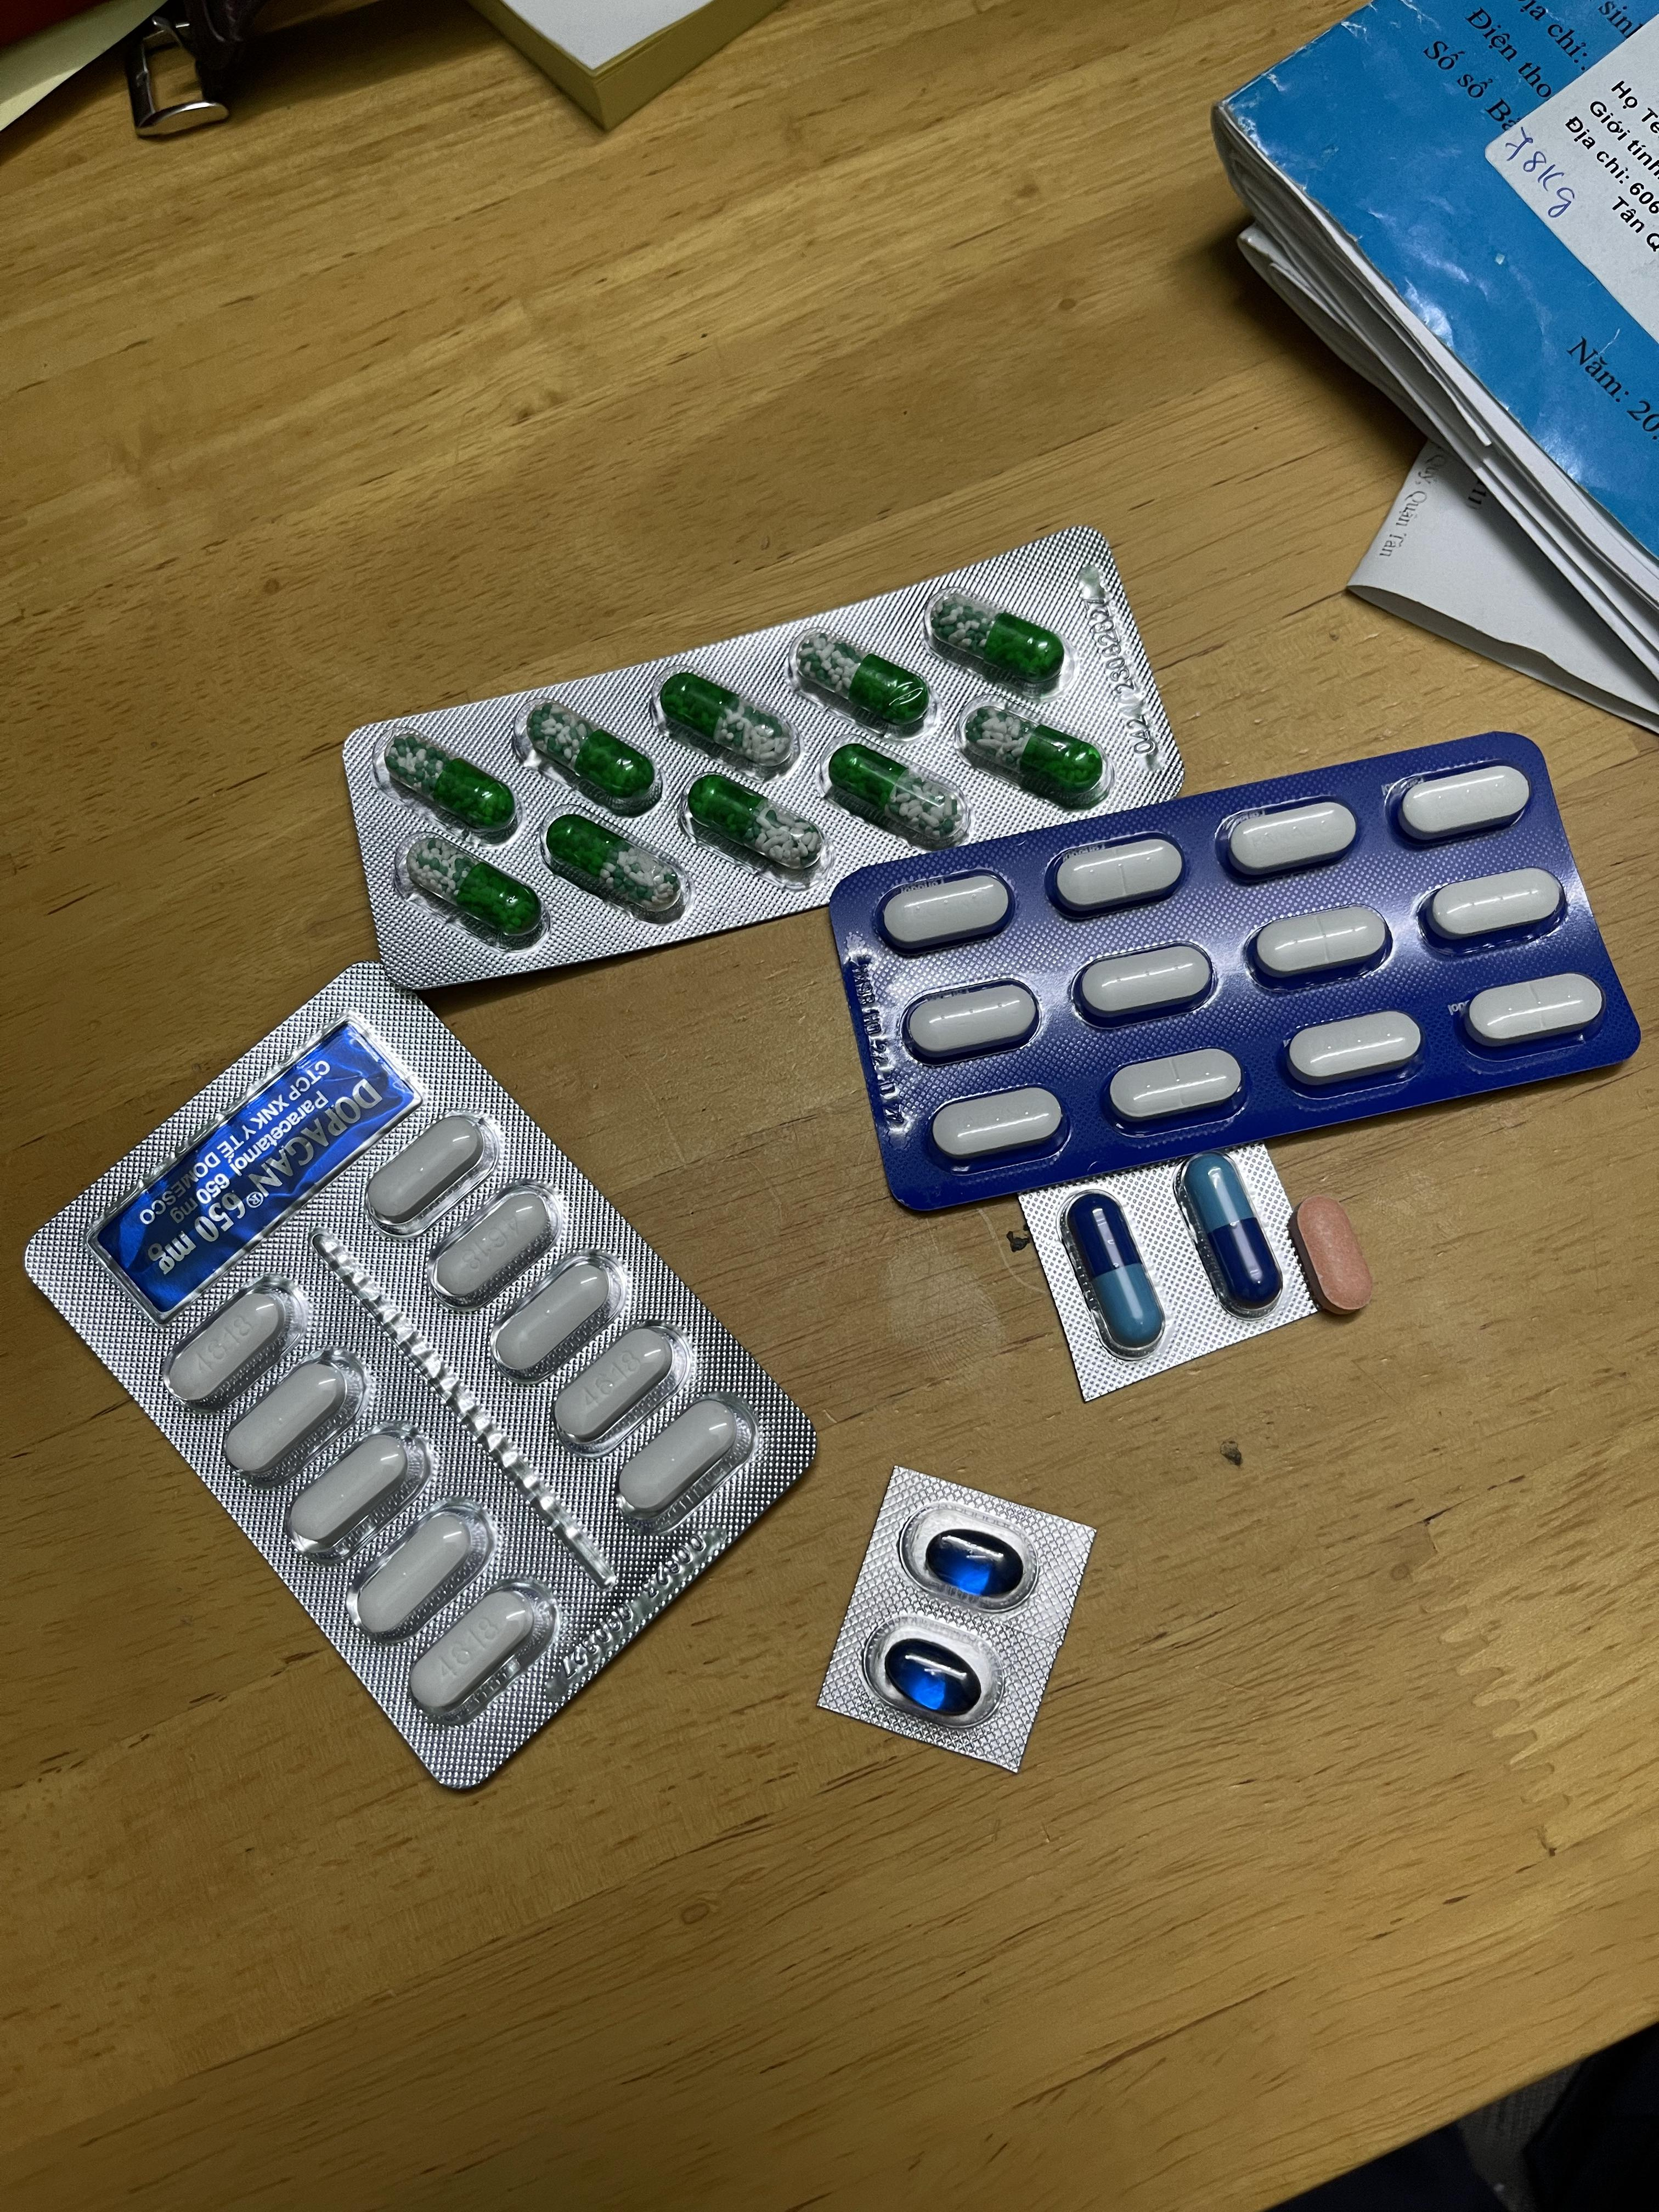Lincomyxin_500mg: (884, 1639, 982, 1716), (927, 1531, 1023, 1599)
Loratadine_10mg: (1289, 1193, 1373, 1314)
Paracetamol_350mg: (902, 979, 1042, 1061), (1391, 761, 1534, 841), (1075, 940, 1214, 1020), (1219, 797, 1356, 876), (1424, 866, 1567, 941), (1284, 1009, 1425, 1085), (878, 870, 1010, 950), (1465, 973, 1607, 1047), (1049, 837, 1182, 915), (1106, 1047, 1242, 1122), (929, 1087, 1063, 1164), (1252, 906, 1388, 980)
Paracetamol_500mg: (404, 1583, 556, 1726), (342, 1499, 493, 1642), (617, 1392, 754, 1537), (218, 1349, 363, 1481), (488, 1248, 626, 1381), (423, 1179, 556, 1305), (289, 1428, 416, 1553), (364, 1112, 494, 1234), (547, 1321, 675, 1443), (168, 1291, 283, 1401)
Paracetamol_650mg: (525, 700, 666, 817), (408, 834, 546, 941), (383, 731, 520, 840), (541, 812, 682, 916), (826, 742, 964, 847), (661, 671, 799, 771), (963, 706, 1102, 803), (690, 771, 821, 870), (928, 592, 1064, 686), (803, 634, 924, 723)
pill: (1058, 1193, 1166, 1358), (1180, 1154, 1279, 1311)
